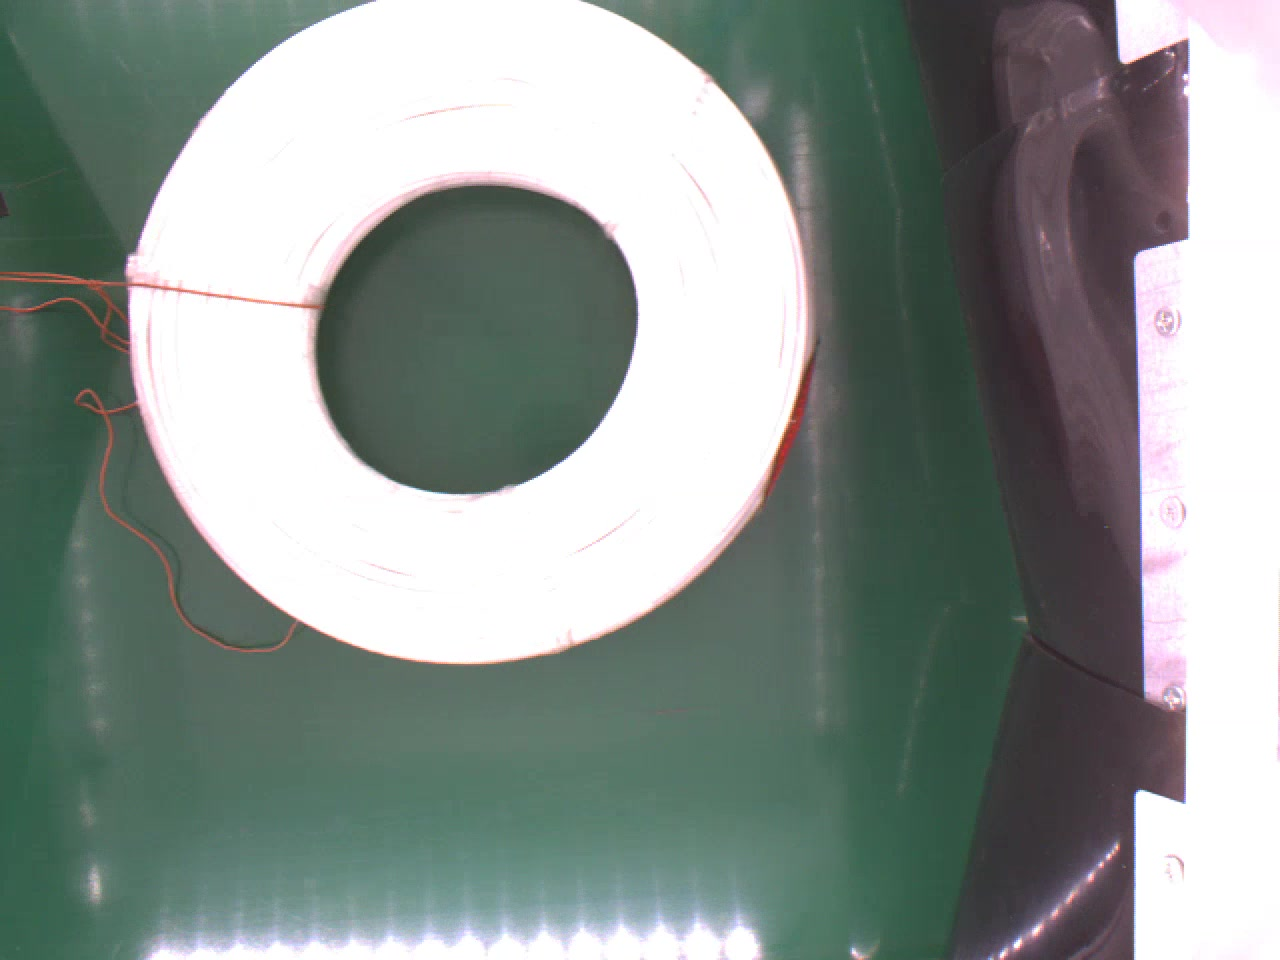white: (130, 0, 820, 666)
